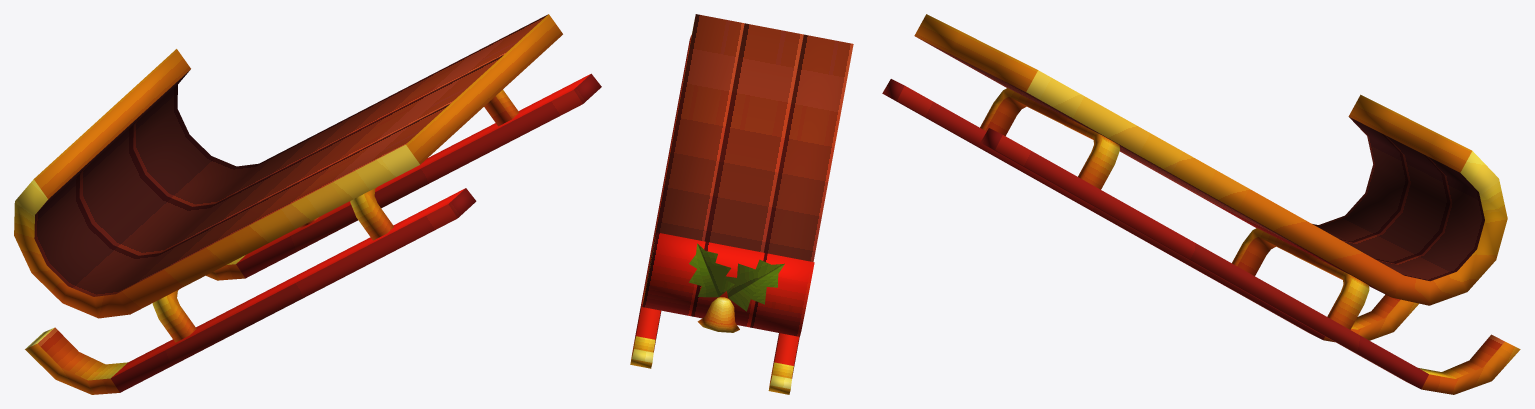
Rendered from LondonBoardPrize.glb.
3 renders of one model, left to right at view 1: azimuth 30°, elevation 25°; view 2: azimuth 150°, elevation 25°; view 3: azimuth 270°, elevation 25°, orthographic. The views are drawn at different scales.
Visible parts, largest first — view 1: hoverboard; view 2: hoverboard; view 3: hoverboard.
Boxes of the visible parts, x1,y1,x2,y2 form: hoverboard: (14,14,601,394); hoverboard: (630,14,853,394); hoverboard: (882,14,1520,394).
Bounding box in the file's own units: 6.17 × 6.31 × 8.76.
Materials: 1 (1 with a texture image).
